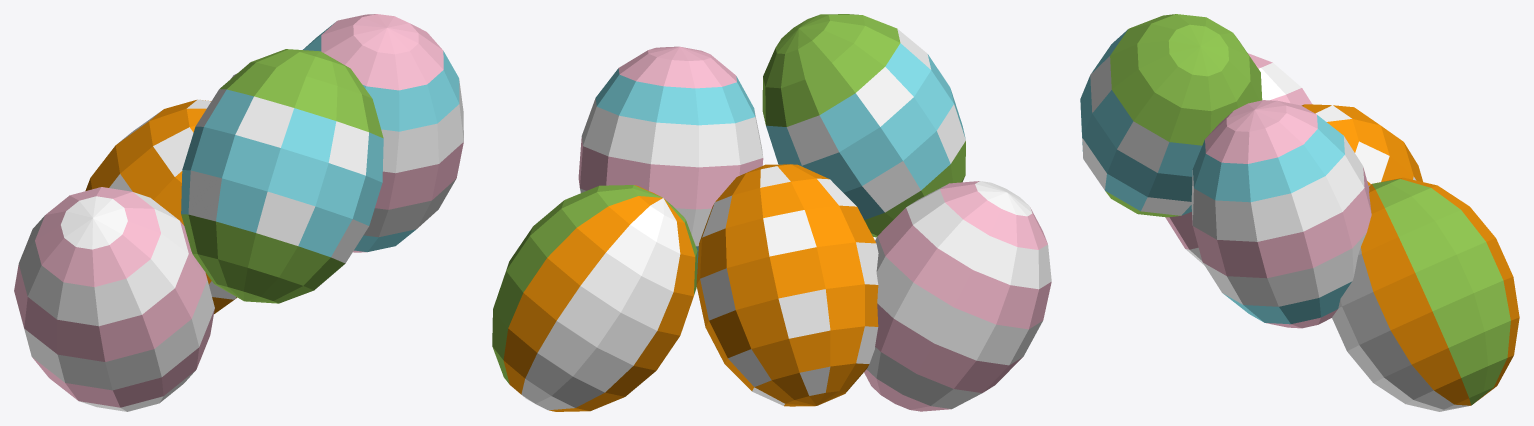
3 renders of one model, left to right at view 1: azimuth 30°, elevation 25°; view 2: azimuth 150°, elevation 25°; view 3: azimuth 270°, elevation 25°, orthographic. The views are drawn at different scales.
Parts seen in each view (by area): view 1: mesh_456117510, mesh_1127165482, mesh_1798689255, mesh_1029002134; view 2: mesh_613170006, mesh_1029002134, mesh_1127165482, mesh_456117510, mesh_1798689255; view 3: mesh_1798689255, mesh_613170006, mesh_456117510, mesh_1029002134, mesh_1127165482.
Part boxes in pixels (x1=…): mesh_456117510: x1=181, y1=49, x2=383, y2=303; mesh_1127165482: x1=14, y1=187, x2=214, y2=411; mesh_1798689255: x1=303, y1=14, x2=463, y2=252; mesh_1029002134: x1=85, y1=99, x2=236, y2=313; mesh_613170006: x1=492, y1=185, x2=697, y2=411; mesh_1029002134: x1=696, y1=164, x2=878, y2=406; mesh_1127165482: x1=864, y1=181, x2=1051, y2=411; mesh_456117510: x1=762, y1=14, x2=965, y2=237; mesh_1798689255: x1=578, y1=46, x2=763, y2=273; mesh_1798689255: x1=1191, y1=100, x2=1371, y2=328; mesh_613170006: x1=1332, y1=177, x2=1519, y2=411; mesh_456117510: x1=1080, y1=14, x2=1262, y2=217; mesh_1029002134: x1=1301, y1=104, x2=1422, y2=185; mesh_1127165482: x1=1165, y1=53, x2=1311, y2=265.
Bounding box in the file's own units: 28.76 × 20.59 × 25.69.
